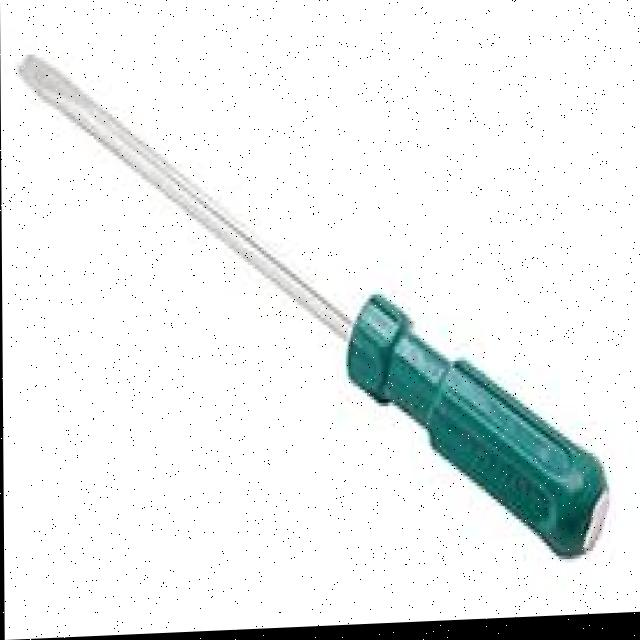Screwdriver: (19, 55, 607, 562)
